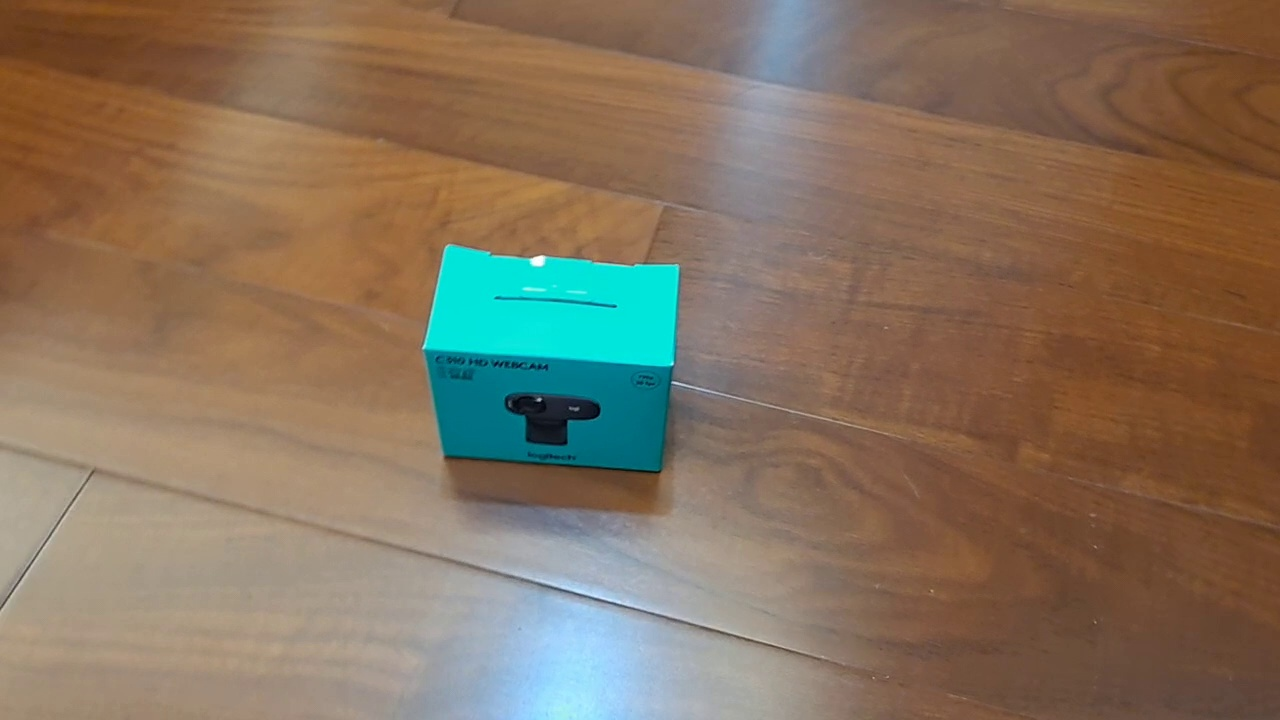webcam: (421, 243, 681, 473)
